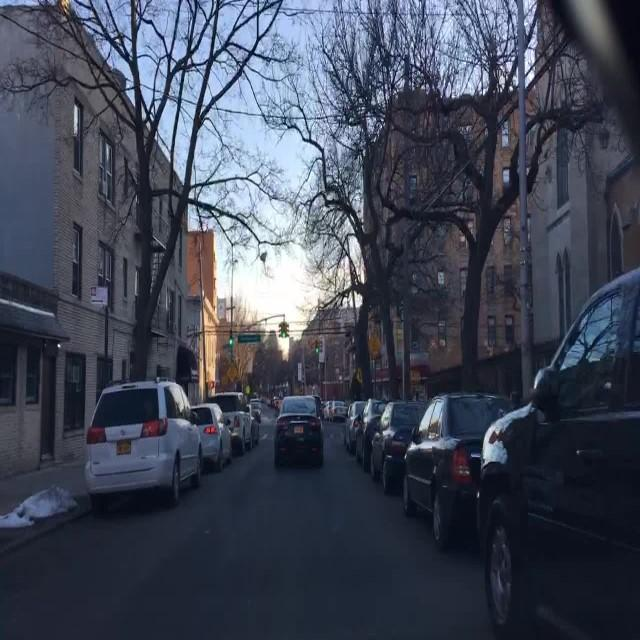normal: (72, 342, 640, 619)
